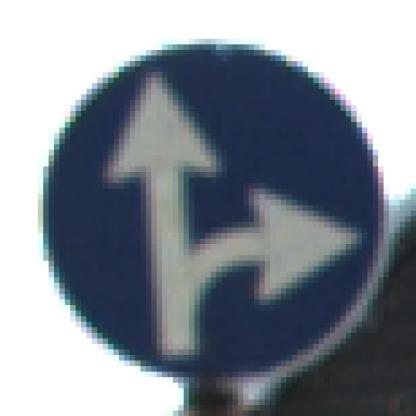Straight or Right: (39, 40, 385, 384)
